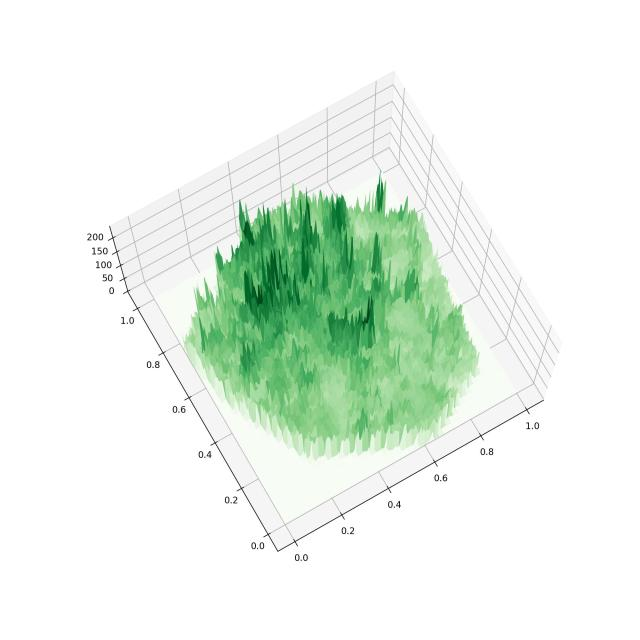spruce: (58, 48, 582, 576)
